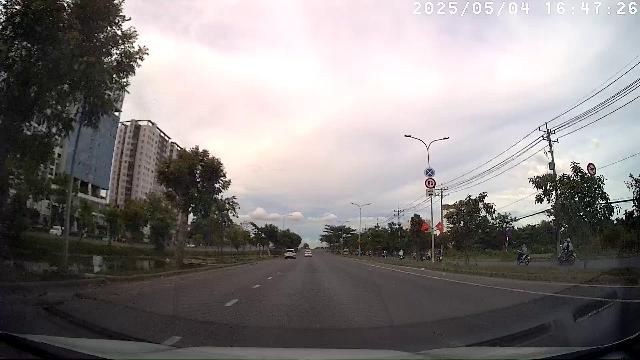127-toc-do-toi-da-80: (425, 178, 436, 189)
